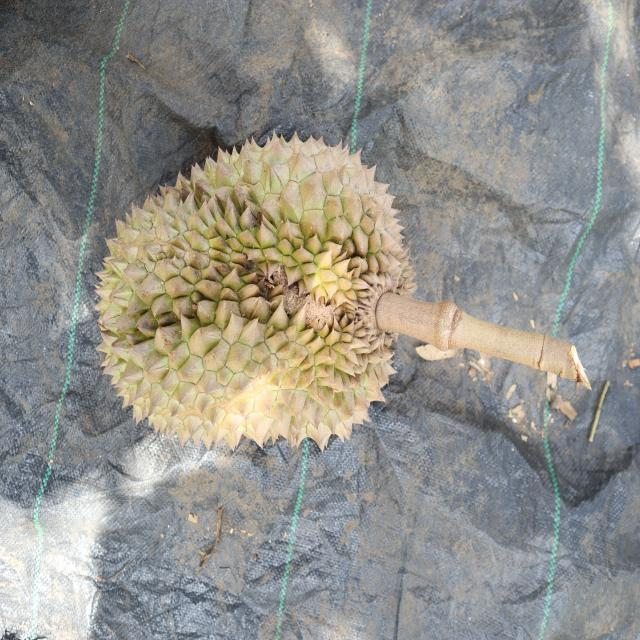mature: (92, 126, 420, 452)
